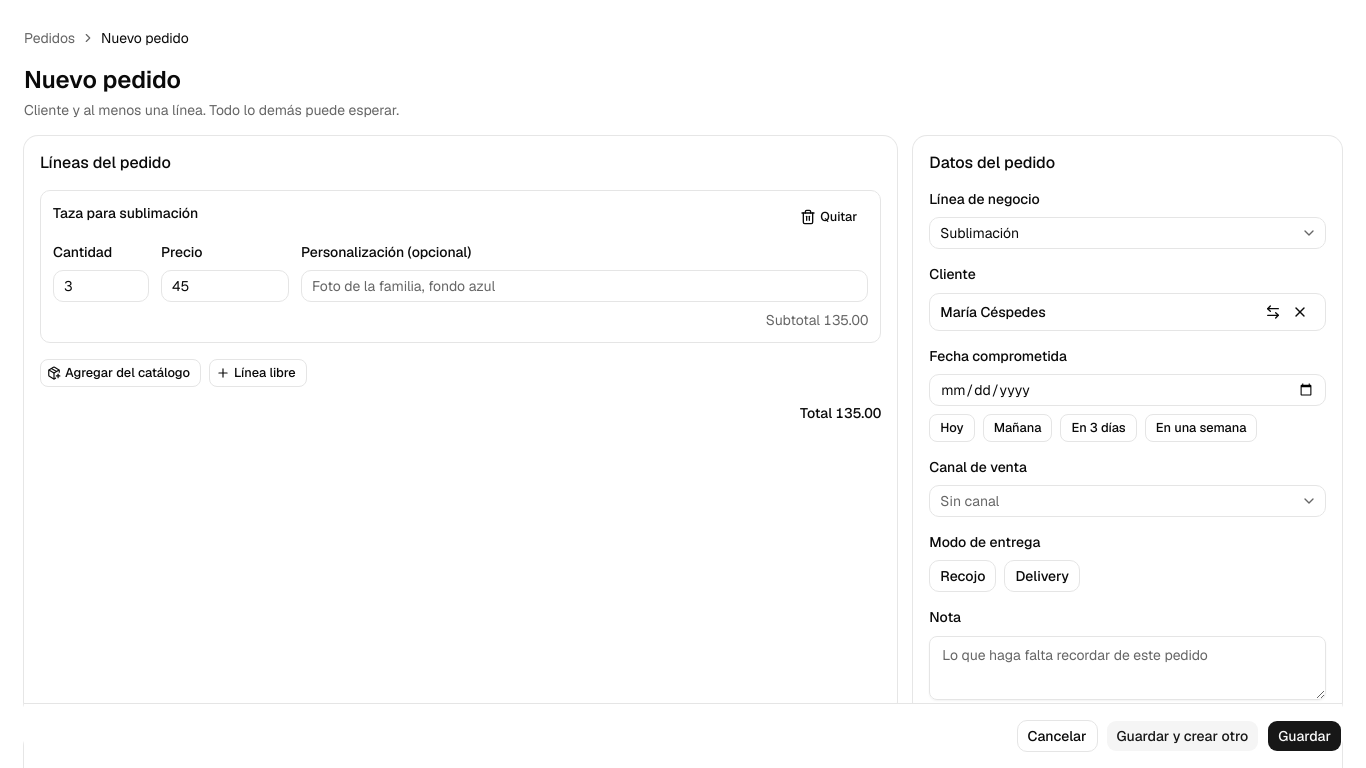
Test: OrderForm · cliente en un diálogo › Cancelar no cambia el cliente
Click the button named "Cambiar cliente".
click(1273, 312)  # box [1259,298,1287,326]
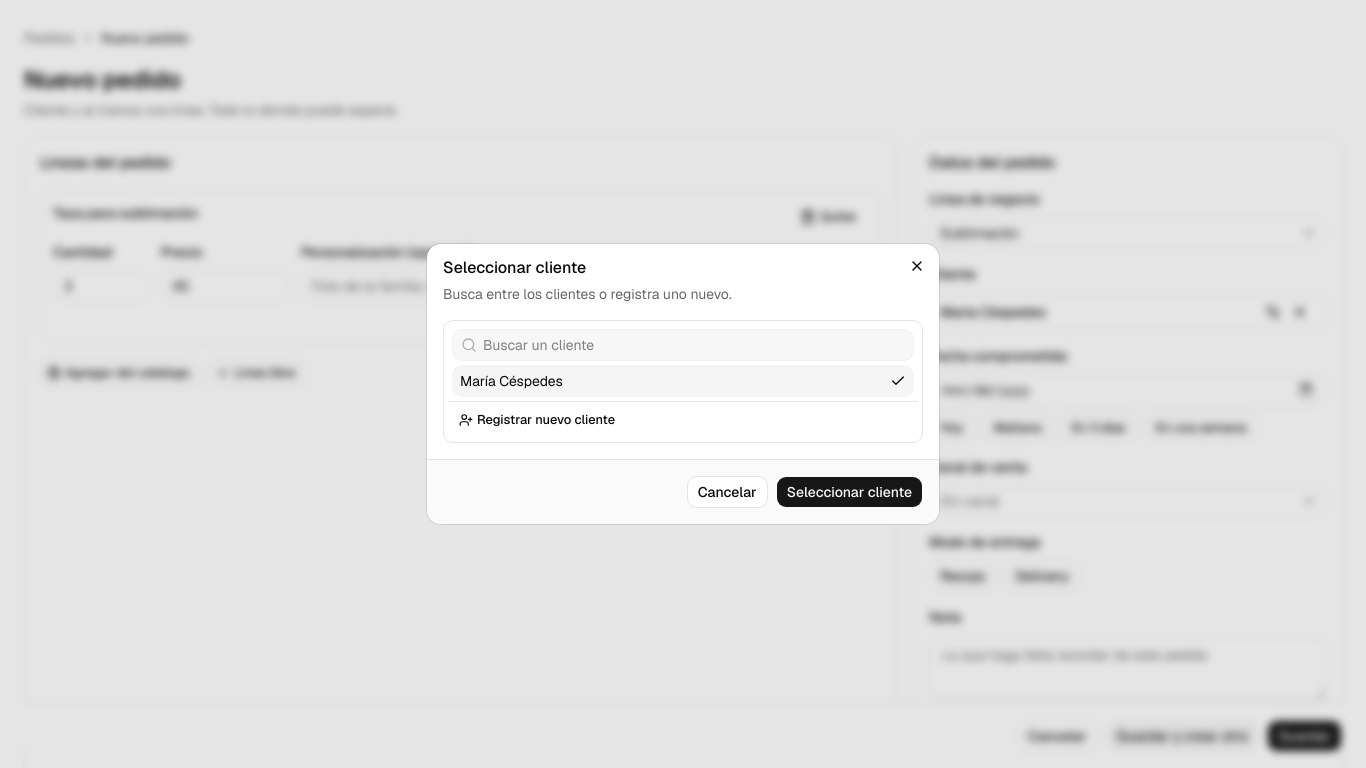
Click the button "Cancelar".
click(727, 492)  # box [687,476,768,508]
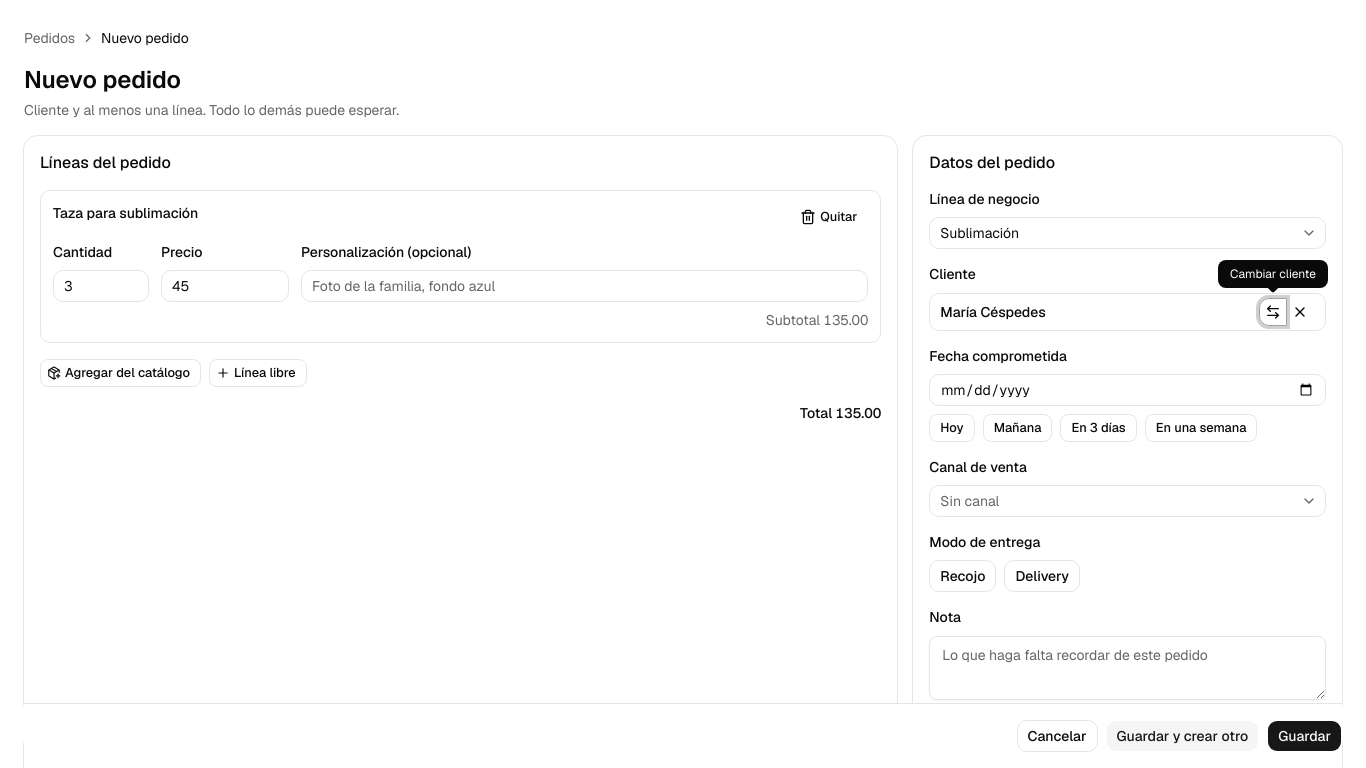
Expected: the element "Cliente" shows "María Céspedes", [940,302,1046,320]
Now the dialog is gone
